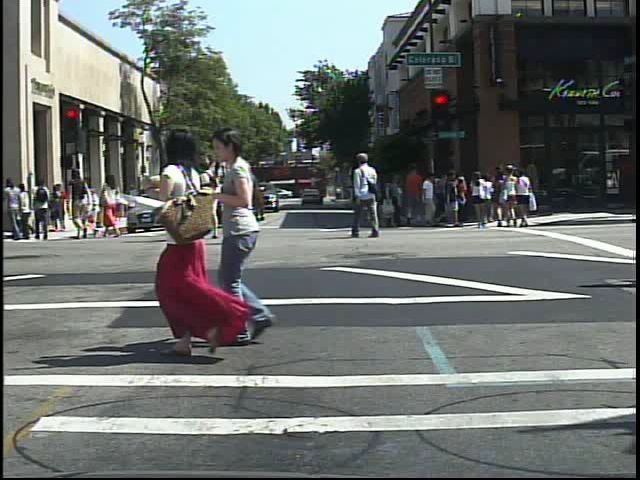person: (128, 127, 249, 358), (206, 126, 307, 352), (161, 154, 197, 244), (352, 150, 384, 242), (496, 163, 535, 232), (197, 155, 226, 245), (66, 166, 94, 244), (100, 170, 128, 241), (2, 177, 25, 245), (470, 169, 494, 233), (32, 177, 54, 243)
